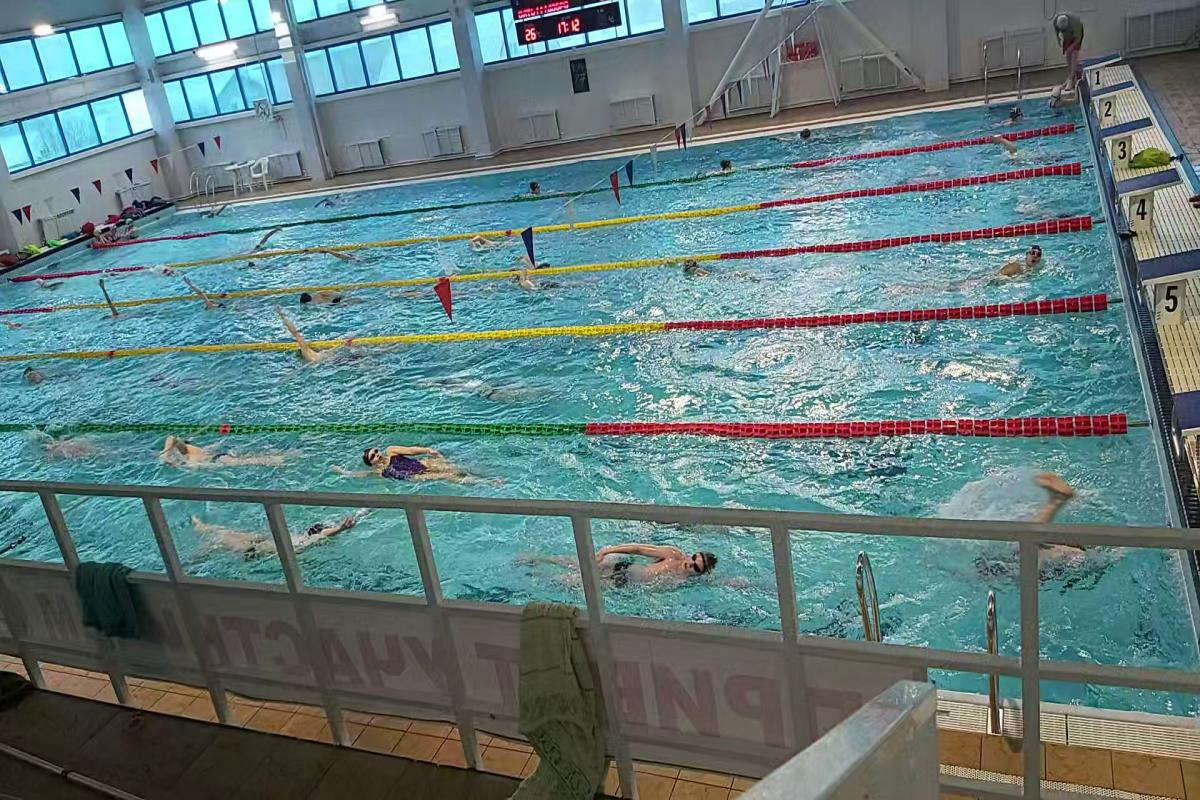swimmer: (986, 467, 1112, 600), (513, 536, 735, 606), (340, 440, 496, 493), (151, 437, 301, 489), (184, 514, 363, 554), (954, 240, 1044, 299), (274, 323, 370, 378), (21, 424, 119, 476), (429, 368, 547, 400), (273, 289, 382, 312), (508, 266, 575, 298), (87, 282, 137, 324), (182, 277, 235, 316), (662, 261, 747, 283), (15, 358, 60, 398), (466, 233, 508, 253)
